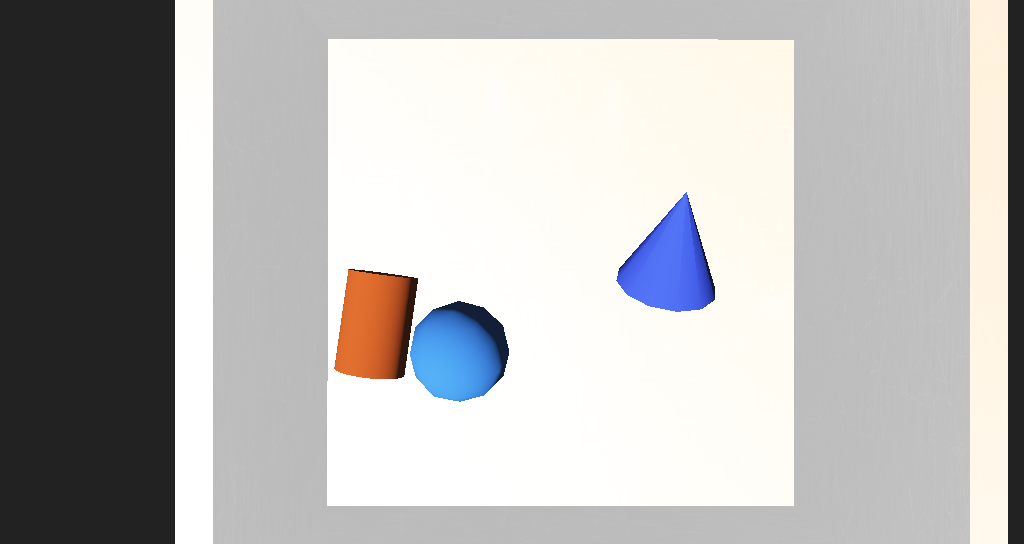cone: (360, 267, 421, 315)
cylinder: (542, 220, 616, 286)
sphere: (404, 284, 472, 327)
